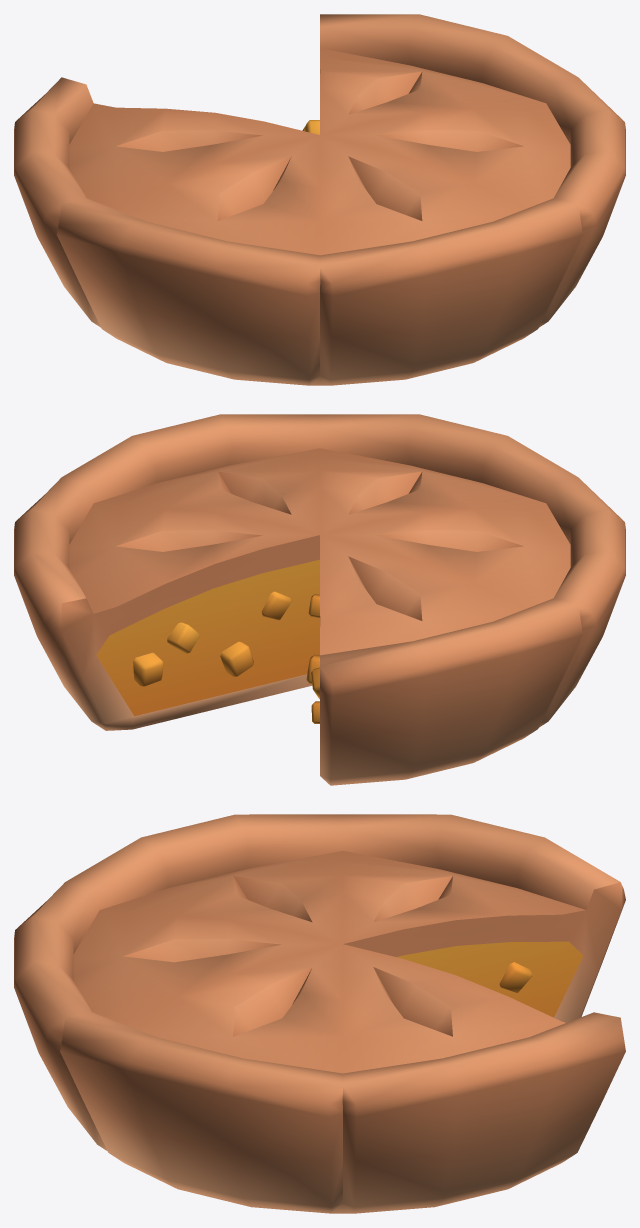
The model's file is pie_apple_cut.obj.
3 renders of one model, top to bottom at view 1: azimuth 30°, elevation 25°; view 2: azimuth 150°, elevation 25°; view 3: azimuth 270°, elevation 25°, orthographic. The views are drawn at different scales.
Visible parts, largest first — view 1: pie_apple_cut; view 2: pie_apple_cut; view 3: pie_apple_cut.
Boxes of the visible parts, x1,y1,x2,y2 form: pie_apple_cut: (14,14,625,385); pie_apple_cut: (14,414,625,785); pie_apple_cut: (14,814,625,1213).
Size of the model in its own units: 1.16 by 0.3153 by 1.06.
Materials: 1 (1 with a texture image).
